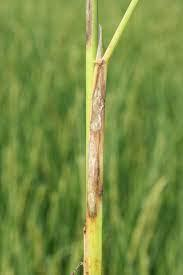Stem Rot: (90, 64, 107, 275), (83, 1, 98, 57)
